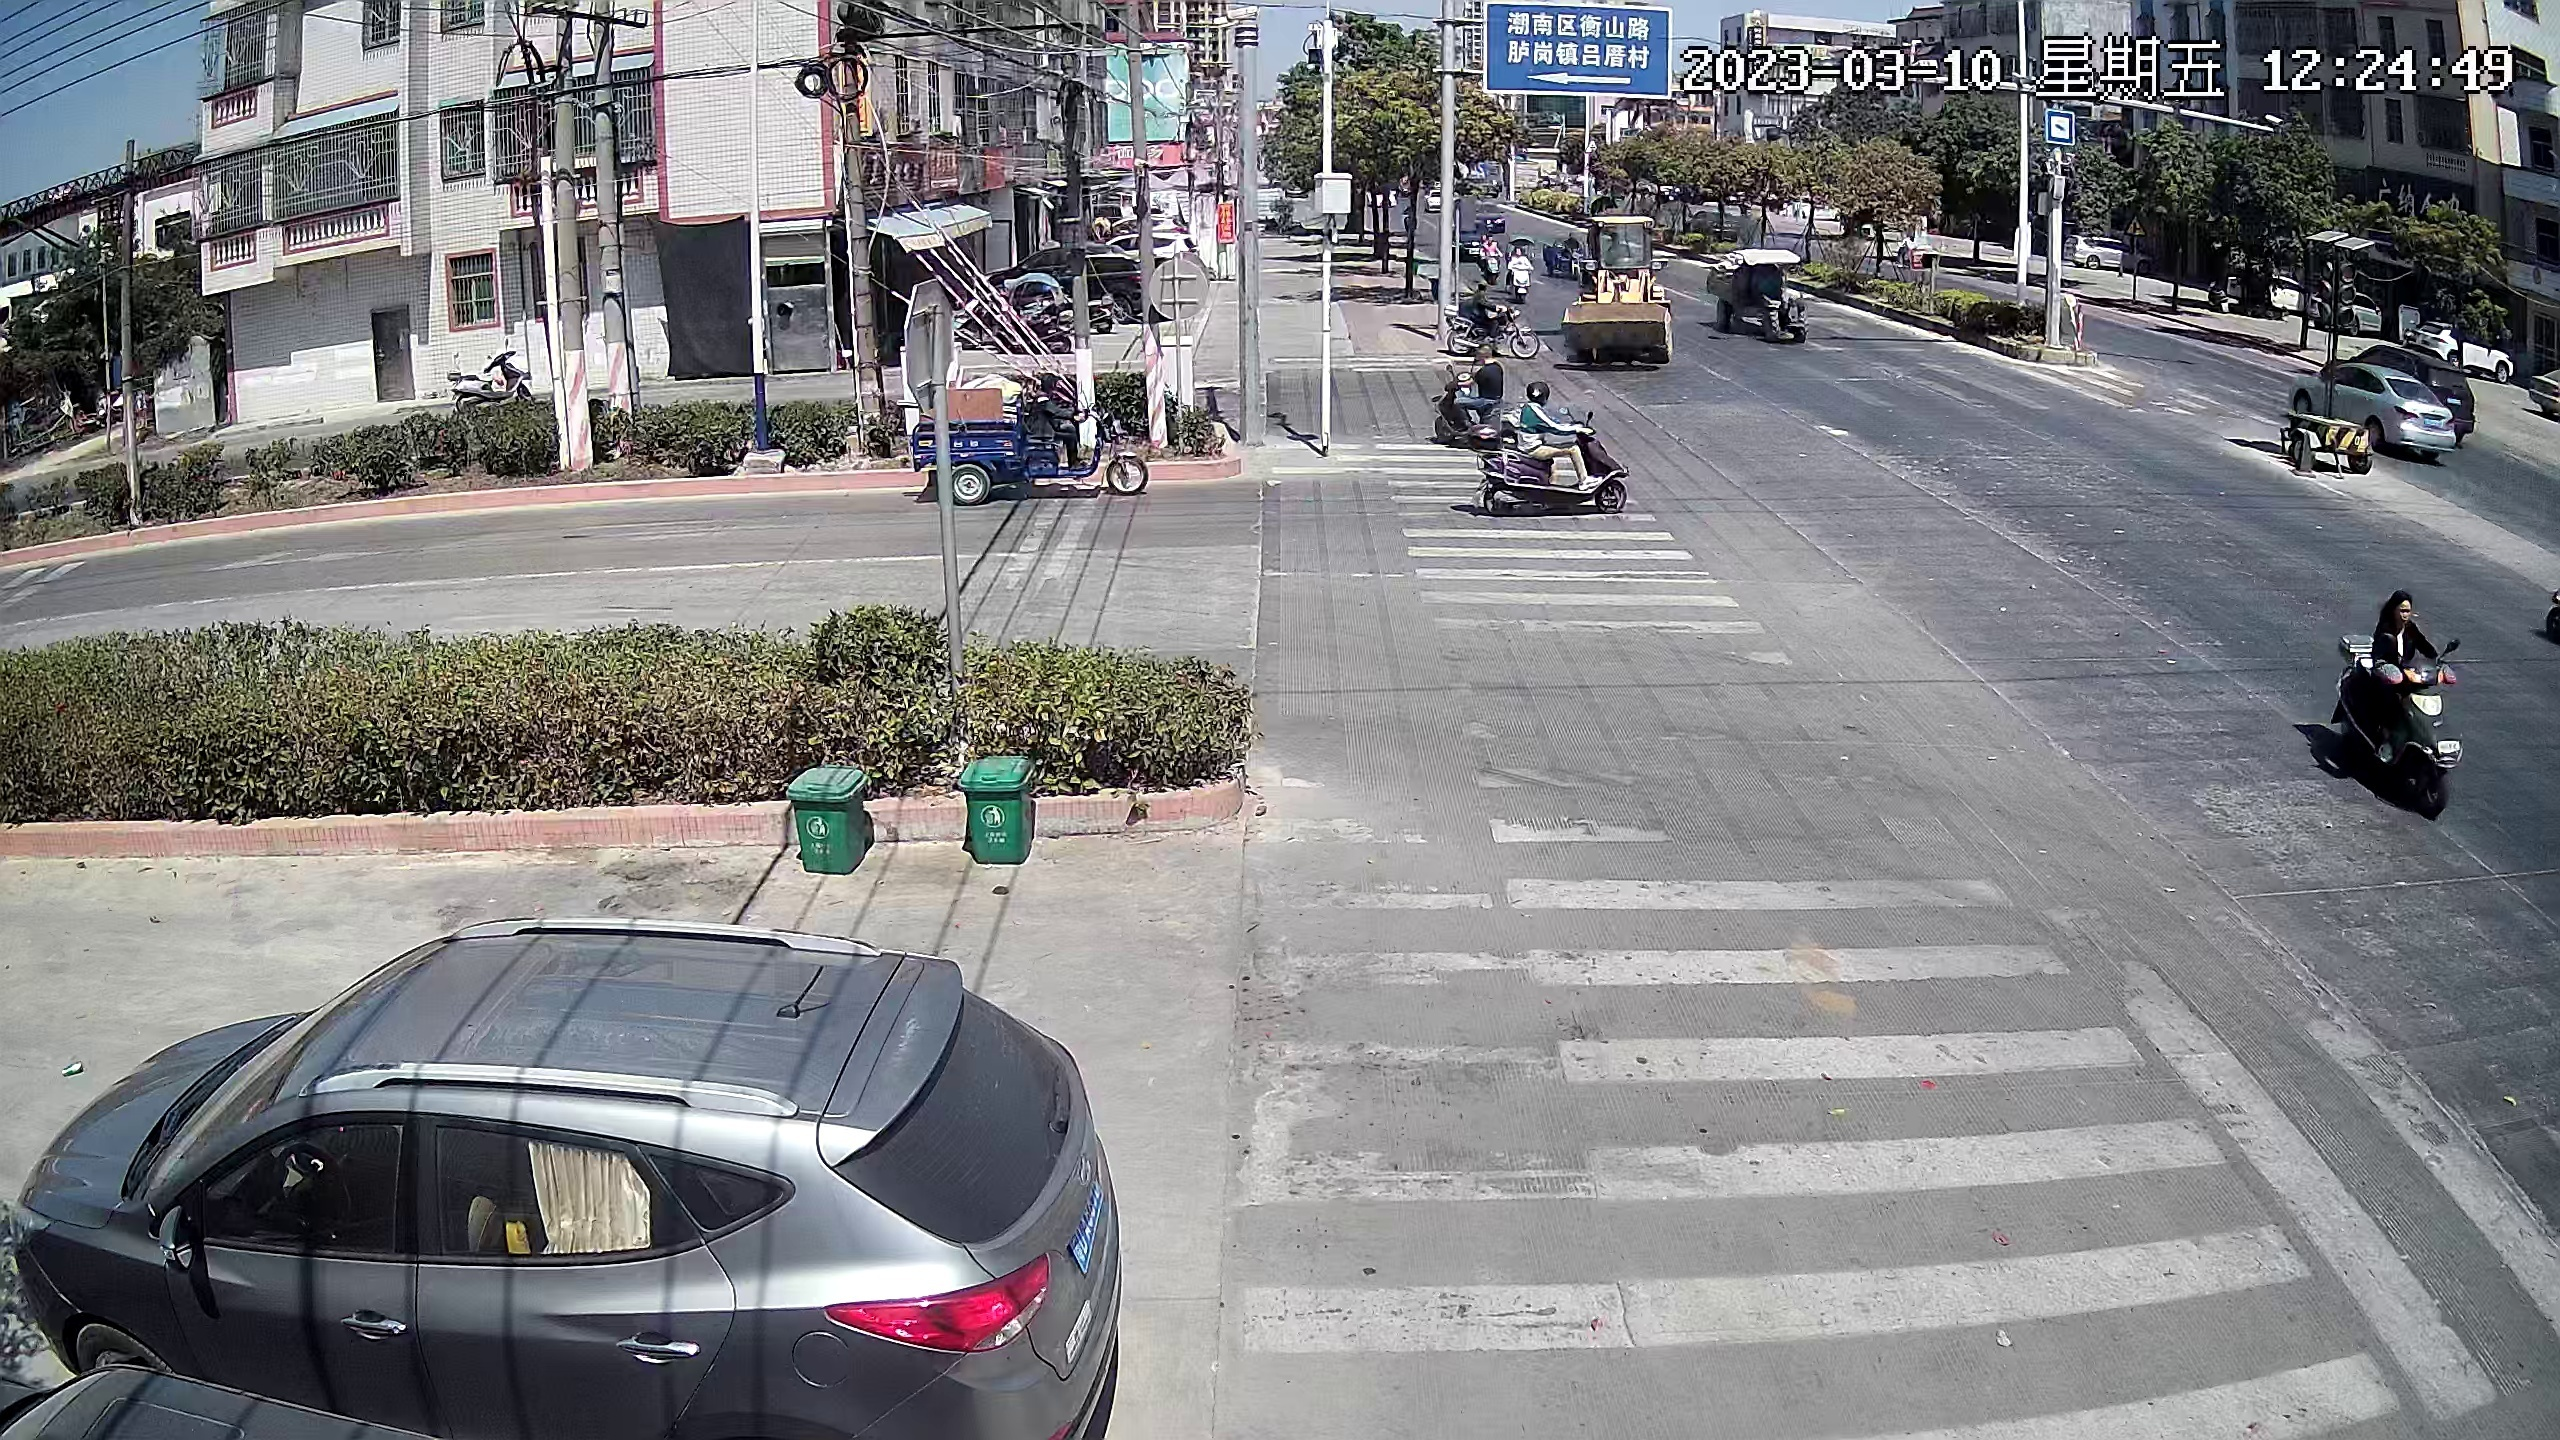motorcycle: (2317, 572, 2468, 820), (1484, 387, 1624, 527), (1432, 329, 1499, 438), (1447, 279, 1538, 357), (1007, 277, 1095, 337), (1509, 228, 1538, 302), (1477, 229, 1505, 279)
person: (1520, 382, 1583, 495), (2373, 580, 2437, 695), (1467, 339, 1502, 408)
sedan: (2303, 368, 2443, 467), (1039, 239, 1143, 294), (2375, 337, 2459, 398), (2057, 232, 2148, 283), (2259, 260, 2310, 318), (2338, 284, 2378, 332)
suv: (25, 908, 1139, 1415)
tricycle: (913, 368, 1160, 519)
truck: (1575, 208, 1669, 368), (1708, 244, 1814, 352)
